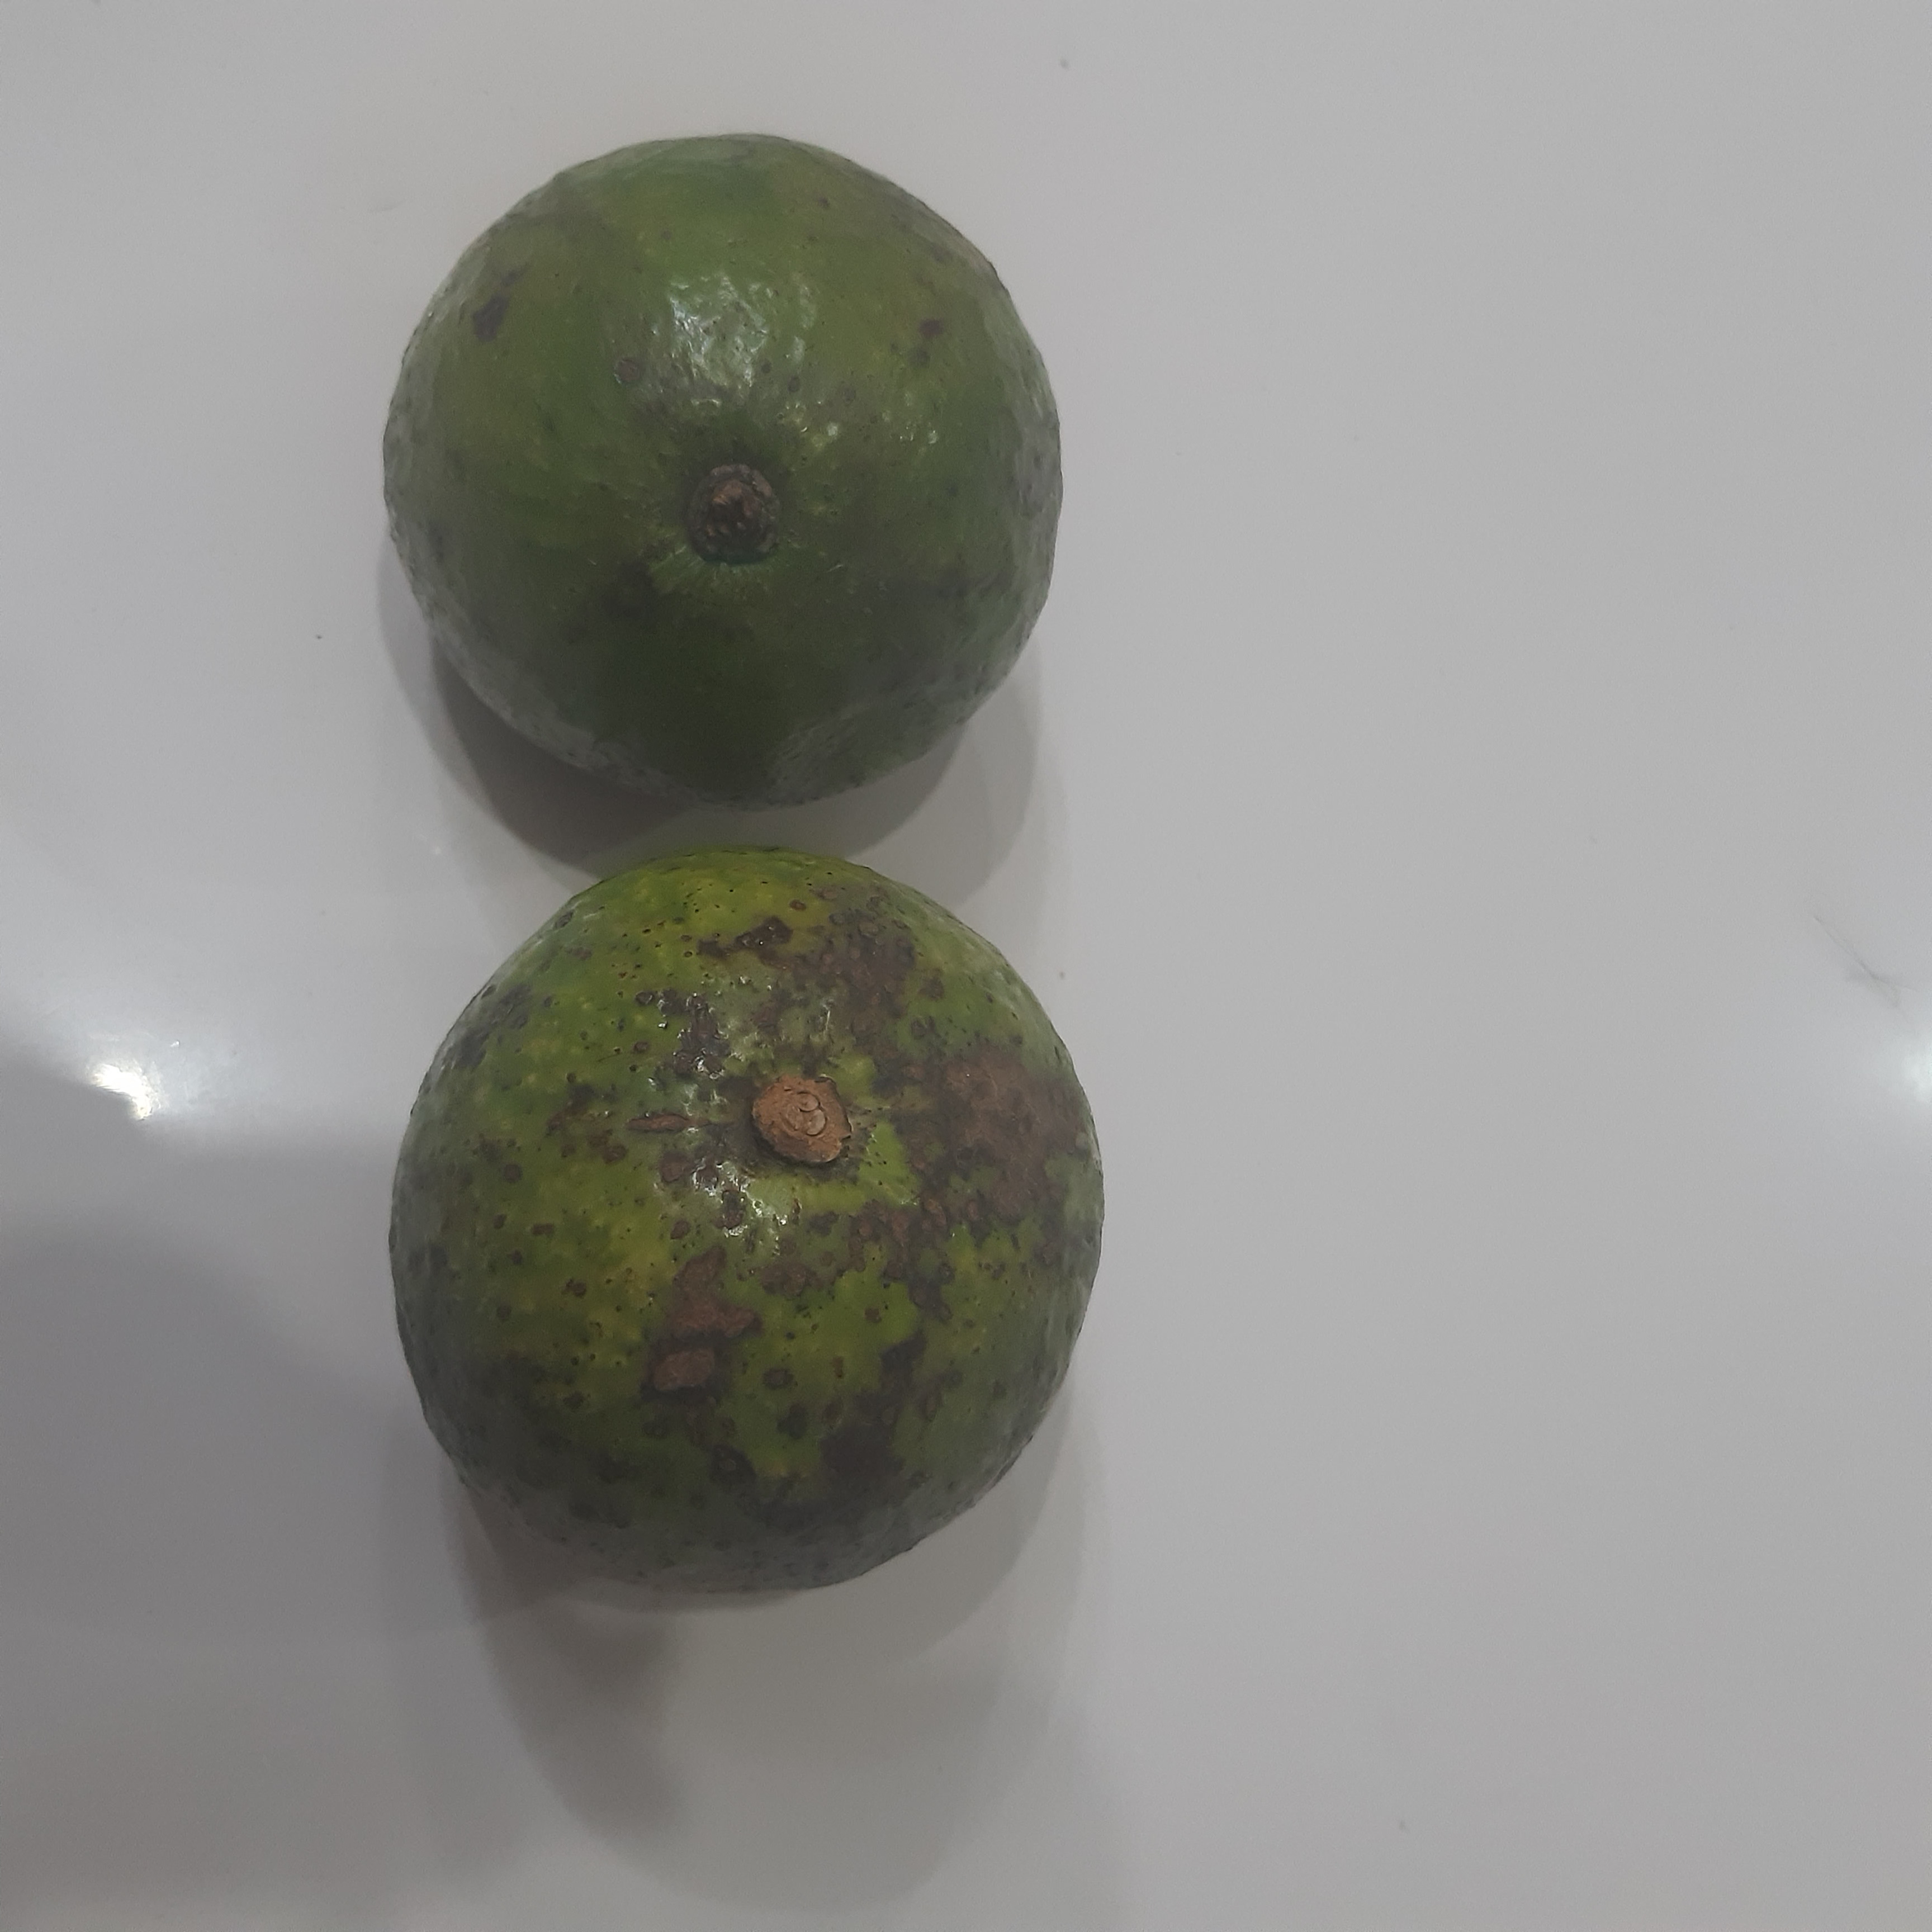Bo: (384, 849, 1104, 1594), (382, 127, 1067, 819)
